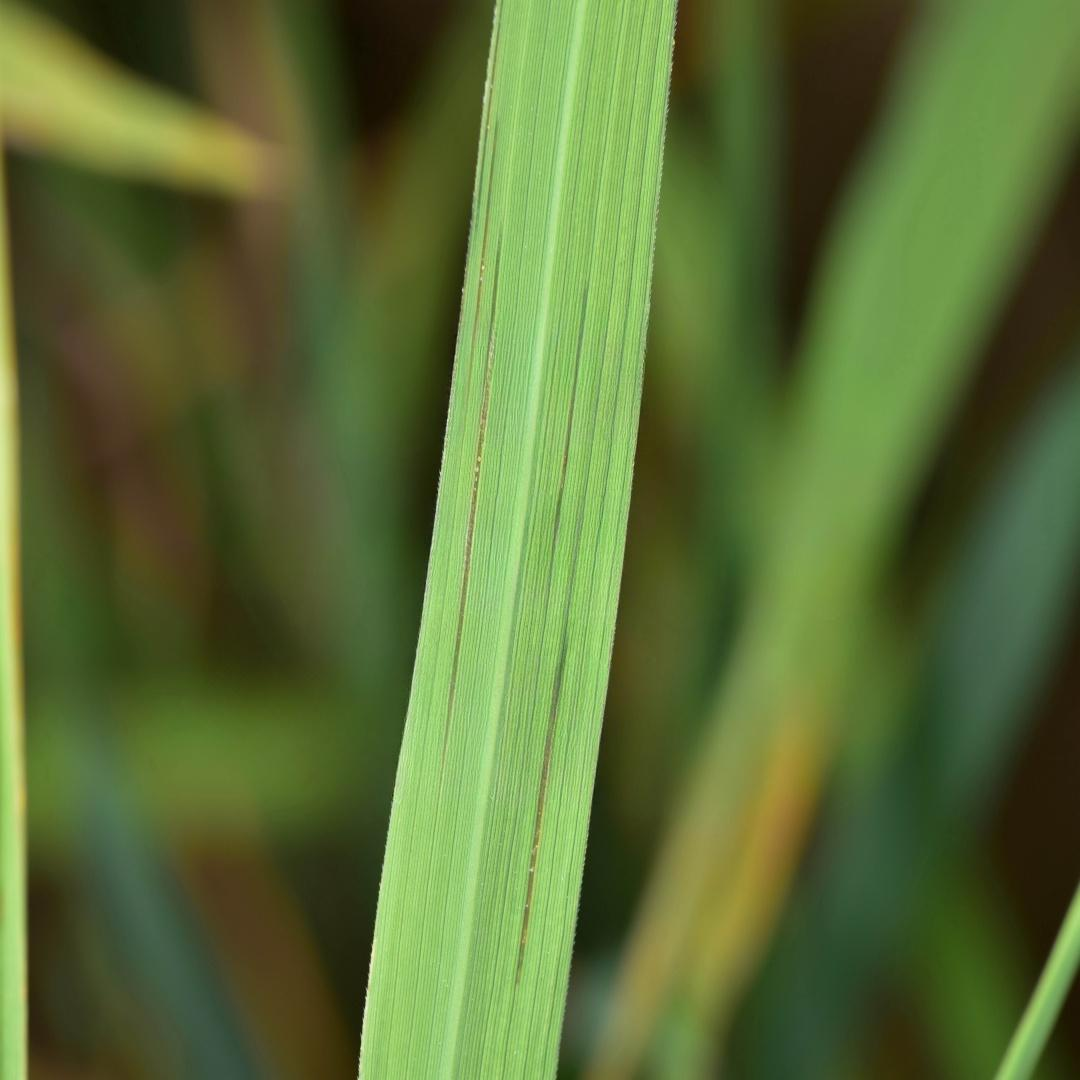BLS: (439, 226, 499, 796), (516, 605, 571, 983), (552, 285, 589, 558), (471, 0, 503, 260), (469, 117, 499, 383)
LEAF: (359, 0, 675, 1079)
